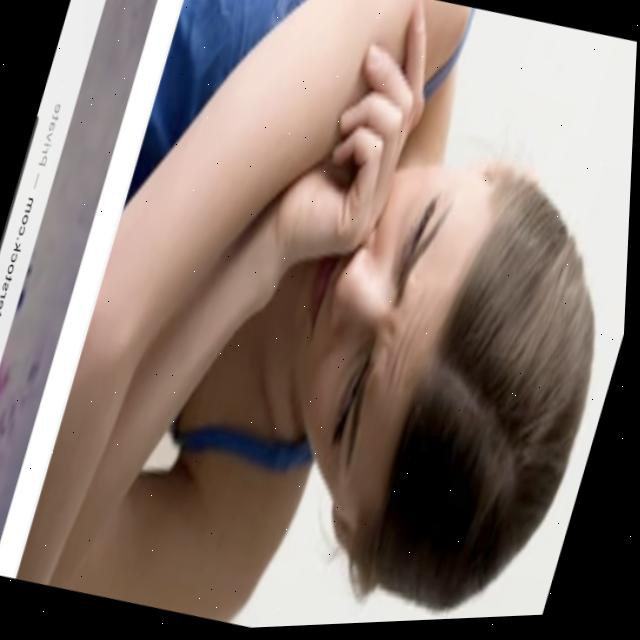sad: (216, 83, 616, 617)
